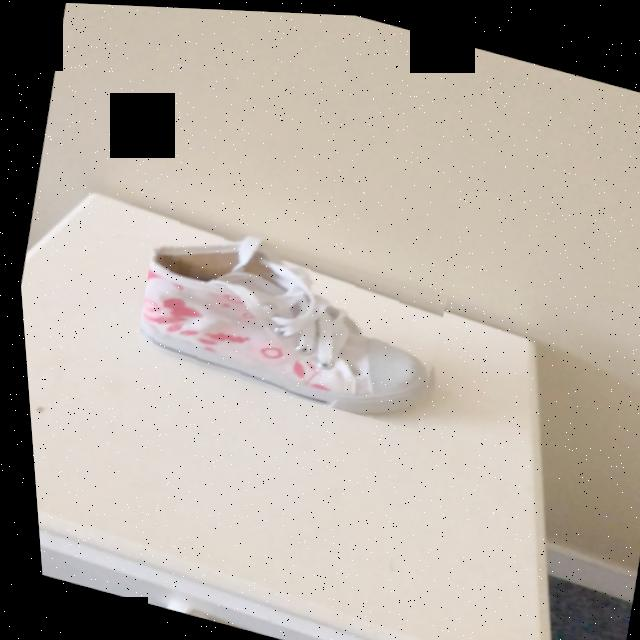shoe: (134, 238, 424, 412)
